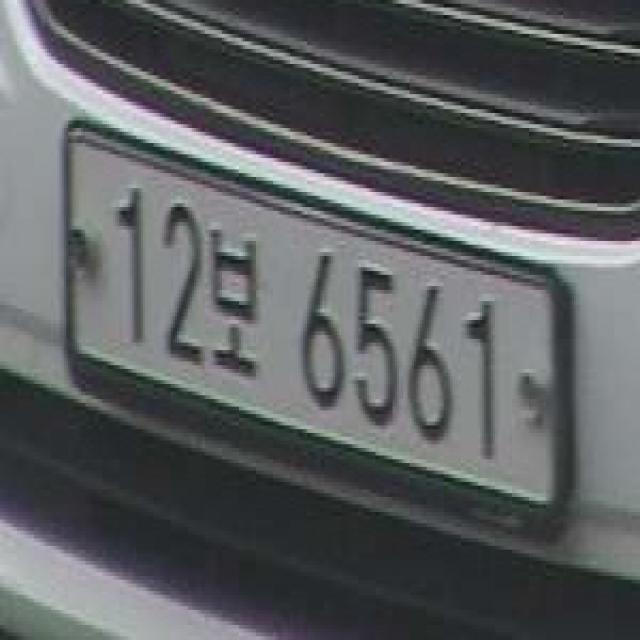1: (457, 282, 514, 463), (111, 173, 151, 365)
2: (151, 177, 207, 376)
5: (346, 256, 403, 425)
6: (399, 271, 463, 452), (294, 241, 346, 418)
bo: (205, 218, 269, 380)
license_plate: (54, 106, 568, 550)
